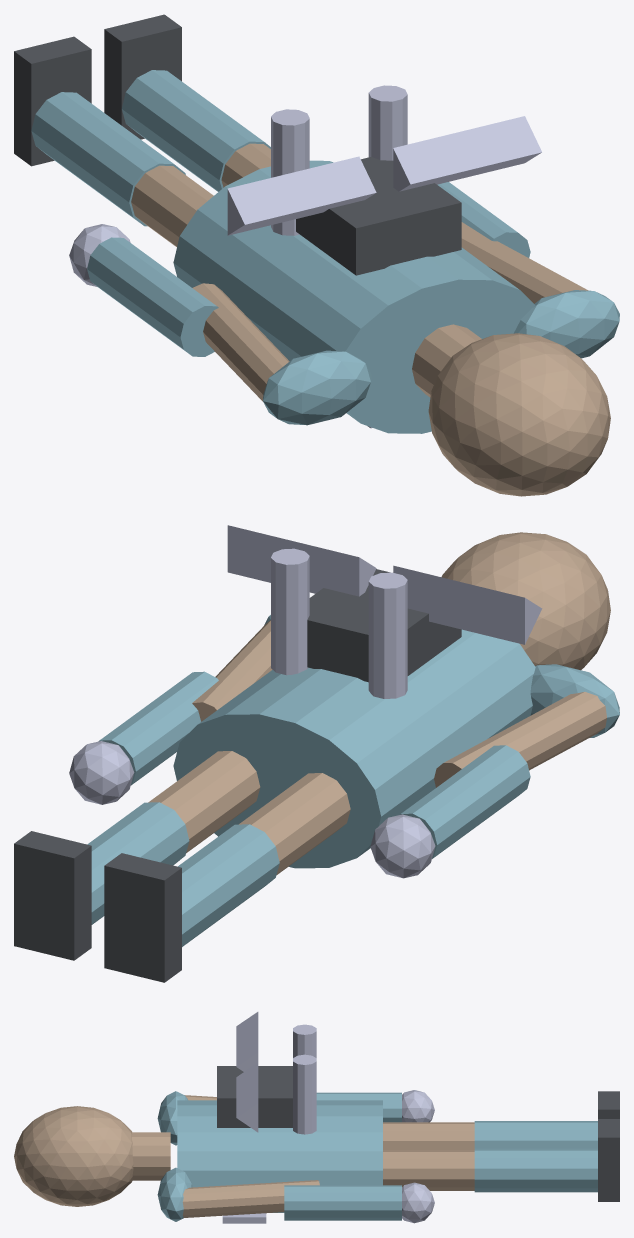
The model's file is SWN-010_elian_skye.glb.
The picture shows the model from 3 angles, top to bottom: view 1: azimuth 30°, elevation 25°; view 2: azimuth 150°, elevation 25°; view 3: azimuth 270°, elevation 25°; orthographic projection. The views are drawn at different scales.
Parts seen in each view (by area): view 1: body_spine, head, back_thruster_pack, greave_-1, greave_1, forearm_gauntlet_-1, zero_g_winglet_-1, zero_g_winglet_1, shoulder_plate_-1, boot_-1, boot_1, shoulder_plate_1 (+9 smaller); view 2: body_spine, head, boot_1, boot_-1, greave_-1, back_thruster_pack, forearm_gauntlet_-1, zero_g_winglet_-1, thigh_1, thigh_-1, upper_arm_-1, forearm_gauntlet_1 (+8 smaller); view 3: body_spine, head, greave_1, forearm_gauntlet_1, back_thruster_pack, thigh_1, greave_-1, upper_arm_1, thigh_-1, aether_thruster_1, neck, boot_1 (+10 smaller).
Part boxes in pixels (x1=…): body_spine: x1=173, y1=160, x2=535, y2=433; head: x1=428, y1=333, x2=610, y2=496; back_thruster_pack: x1=296, y1=157, x2=461, y2=275; greave_-1: x1=31, y1=92, x2=185, y2=226; greave_1: x1=122, y1=70, x2=270, y2=191; forearm_gauntlet_-1: x1=87, y1=237, x2=218, y2=356; zero_g_winglet_-1: x1=227, y1=156, x2=376, y2=235; zero_g_winglet_1: x1=393, y1=116, x2=541, y2=191; shoulder_plate_-1: x1=263, y1=350, x2=371, y2=425; boot_-1: x1=14, y1=36, x2=91, y2=166; boot_1: x1=104, y1=14, x2=181, y2=139; shoulder_plate_1: x1=513, y1=290, x2=619, y2=358; body_spine: x1=173, y1=629, x2=535, y2=868; head: x1=441, y1=532, x2=610, y2=670; boot_1: x1=14, y1=831, x2=91, y2=960; boot_-1: x1=104, y1=853, x2=181, y2=982; greave_-1: x1=178, y1=824, x2=279, y2=946; back_thruster_pack: x1=307, y1=569, x2=461, y2=682; forearm_gauntlet_-1: x1=400, y1=745, x2=530, y2=858; zero_g_winglet_-1: x1=393, y1=565, x2=542, y2=644; thigh_1: x1=148, y1=751, x2=260, y2=853; thigh_-1: x1=239, y1=773, x2=350, y2=874; upper_arm_-1: x1=434, y1=691, x2=606, y2=787; forearm_gauntlet_1: x1=98, y1=671, x2=218, y2=785; body_spine: x1=177, y1=1100, x2=382, y2=1212; head: x1=14, y1=1106, x2=133, y2=1206; greave_1: x1=474, y1=1148, x2=597, y2=1192; forearm_gauntlet_1: x1=284, y1=1185, x2=401, y2=1220; back_thruster_pack: x1=217, y1=1066, x2=292, y2=1127; thigh_1: x1=383, y1=1150, x2=474, y2=1190; greave_-1: x1=474, y1=1121, x2=597, y2=1148; upper_arm_1: x1=182, y1=1180, x2=319, y2=1217; thigh_-1: x1=383, y1=1122, x2=474, y2=1149; aether_thruster_1: x1=293, y1=1054, x2=316, y2=1134; neck: x1=132, y1=1132, x2=170, y2=1180; boot_1: x1=598, y1=1119, x2=619, y2=1201.
Bounding box in the file's own units: 0.95 × 0.6775 × 2.21.
